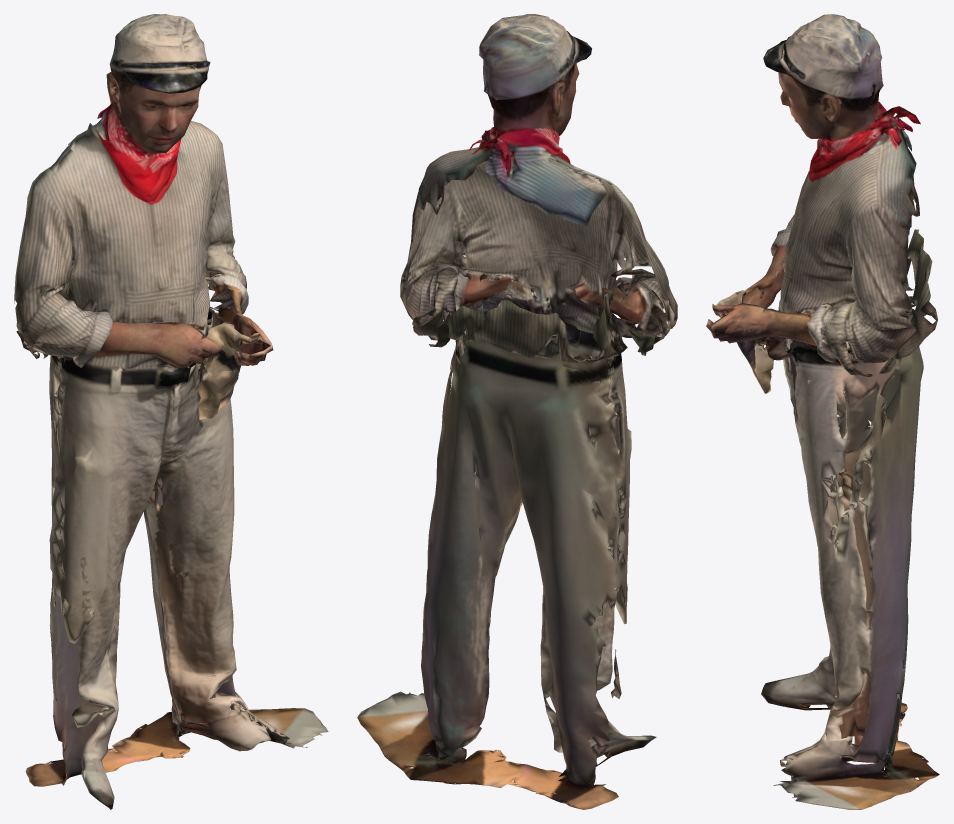
File: passenger.glb
3 views of the same model, side by side, from view 1: azimuth 30°, elevation 25°; view 2: azimuth 150°, elevation 25°; view 3: azimuth 270°, elevation 25° (orthographic). The views are drawn at different scales.
Parts seen in each view (by area): view 1: geo1; view 2: geo1; view 3: geo1.
Part boxes in pixels (x1,y1,x2,y2): geo1: (14,14,328,809); geo1: (357,14,677,809); geo1: (706,14,939,809).
Bounding box in the file's own units: 0.7696 × 1.79 × 0.5239.
Materials: 1 (1 with a texture image).
